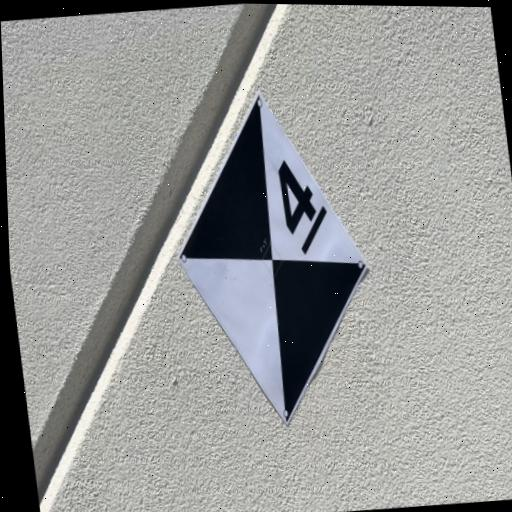target4: (178, 90, 371, 429)
